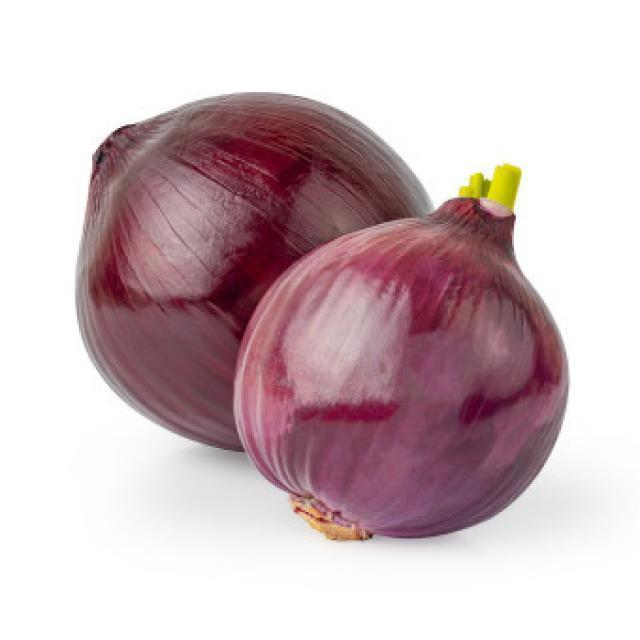onion: (287, 201, 574, 554), (90, 93, 344, 410)
